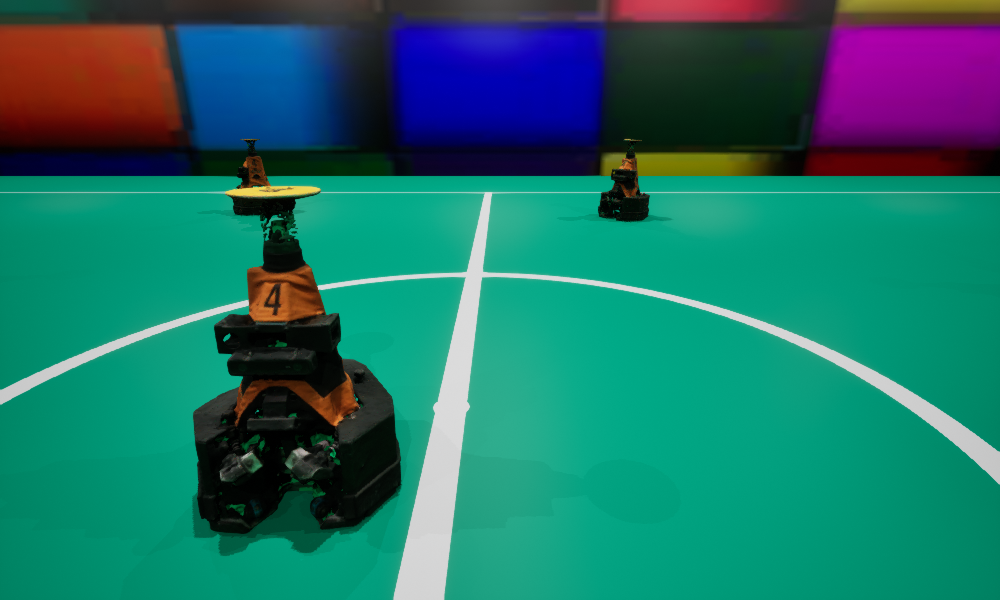0 orange robot TechUnited: (193, 186, 400, 533), (598, 139, 649, 220), (231, 139, 285, 214)
